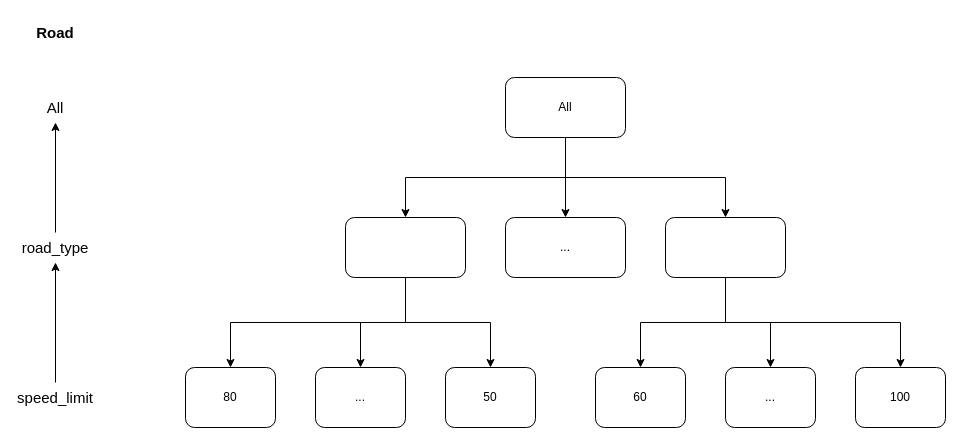
Image size: 963x445. Some labels were removed from this diagram. Each missing label, with the centre of its shape:
"Local Road" goes at point 405,247.
"National or State Highway" goes at point 725,247.
